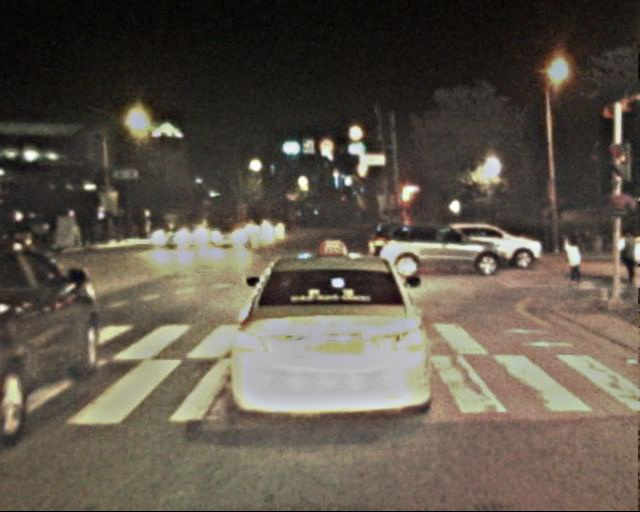person: (563, 228, 589, 288), (618, 228, 640, 286)
